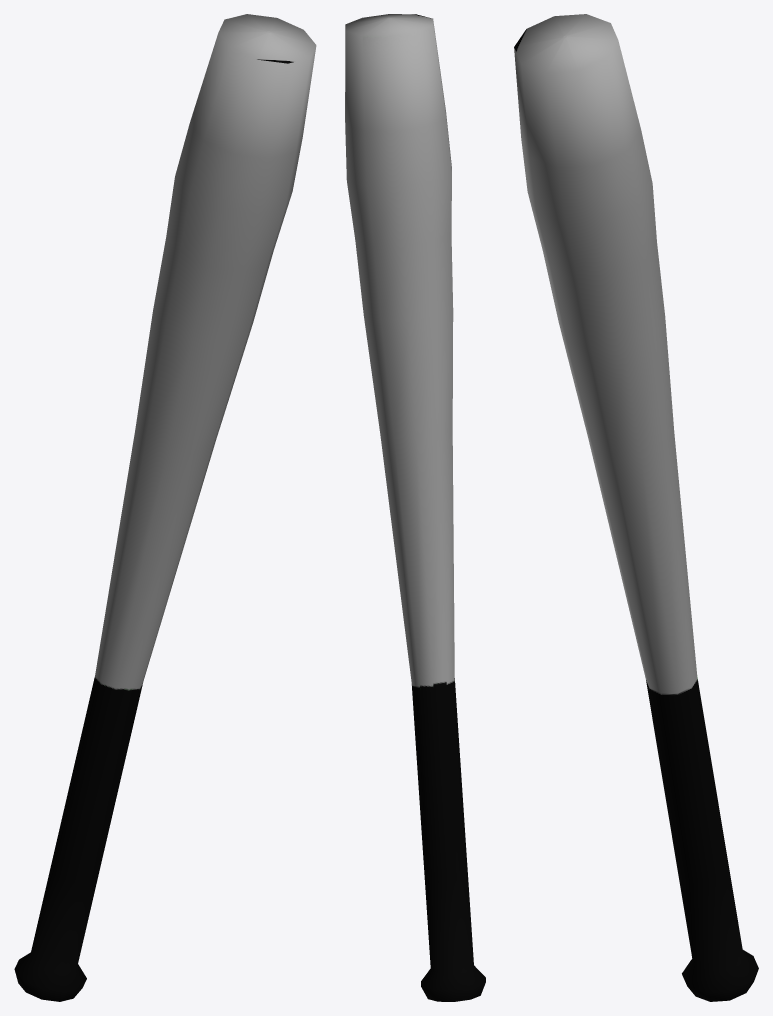
The model's file is 방망이fbx.fbx.
The picture shows the model from 3 angles, left to right: view 1: azimuth 30°, elevation 25°; view 2: azimuth 150°, elevation 25°; view 3: azimuth 270°, elevation 25°; orthographic projection. The views are drawn at different scales.
Parts seen in each view (by area): view 1: Cylinder001; view 2: Cylinder001; view 3: Cylinder001.
Part boxes in pixels (box(x1,y1,x2,y2)): Cylinder001: box(14, 14, 316, 1001); Cylinder001: box(345, 14, 485, 1001); Cylinder001: box(514, 14, 758, 1001).
Size of the model in its own units: 25.22 by 109 by 23.55.
1 material, 1 textured.
